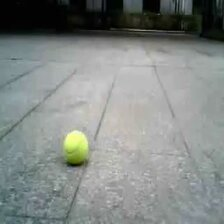tennis: (64, 130, 88, 161)
